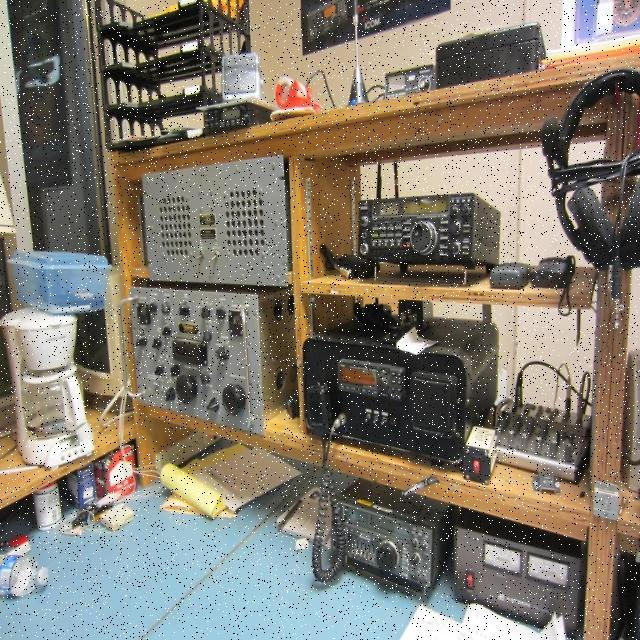Coffee-Machine: (0, 300, 100, 488)
